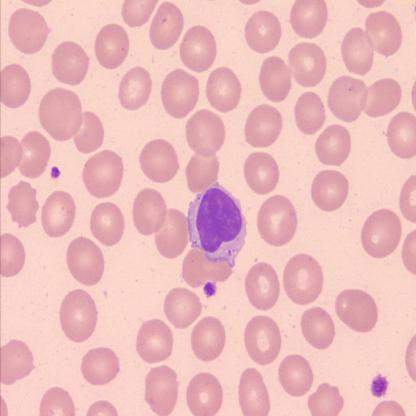Lymphocyte: (188, 182, 247, 267)
